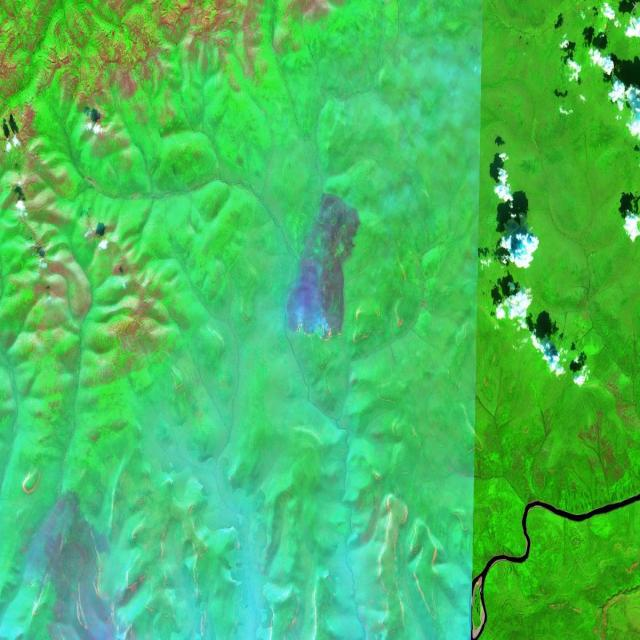fire: (282, 301, 352, 356)
